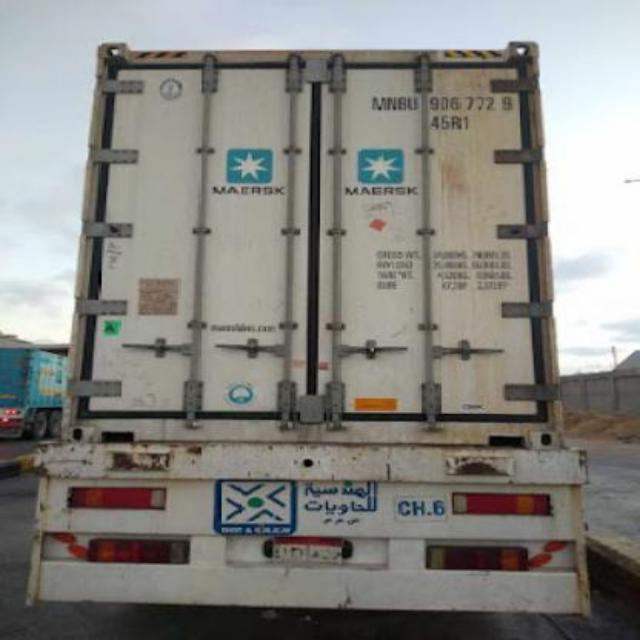0: (440, 94, 448, 114)
2: (482, 91, 498, 112)
6: (450, 94, 462, 112)
7: (474, 89, 486, 115), (464, 94, 476, 112)
9: (500, 92, 512, 110), (428, 94, 438, 110)
B: (396, 87, 408, 117)
M: (368, 94, 384, 112)
N: (382, 93, 398, 117)
U: (406, 94, 418, 114)
